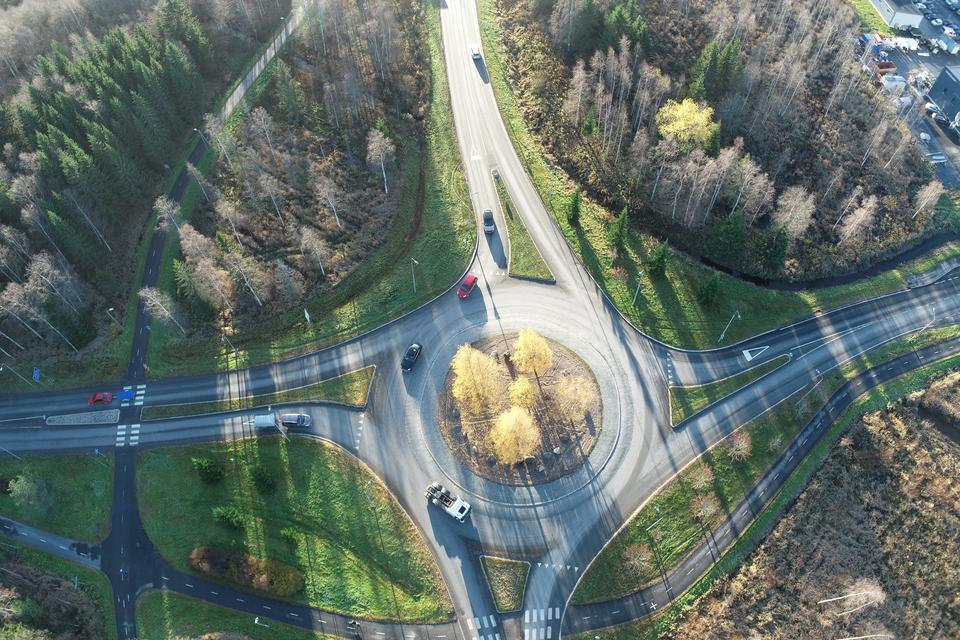intersection: (88, 359, 173, 480), (414, 594, 622, 640)
roundabout: (309, 215, 747, 579)
